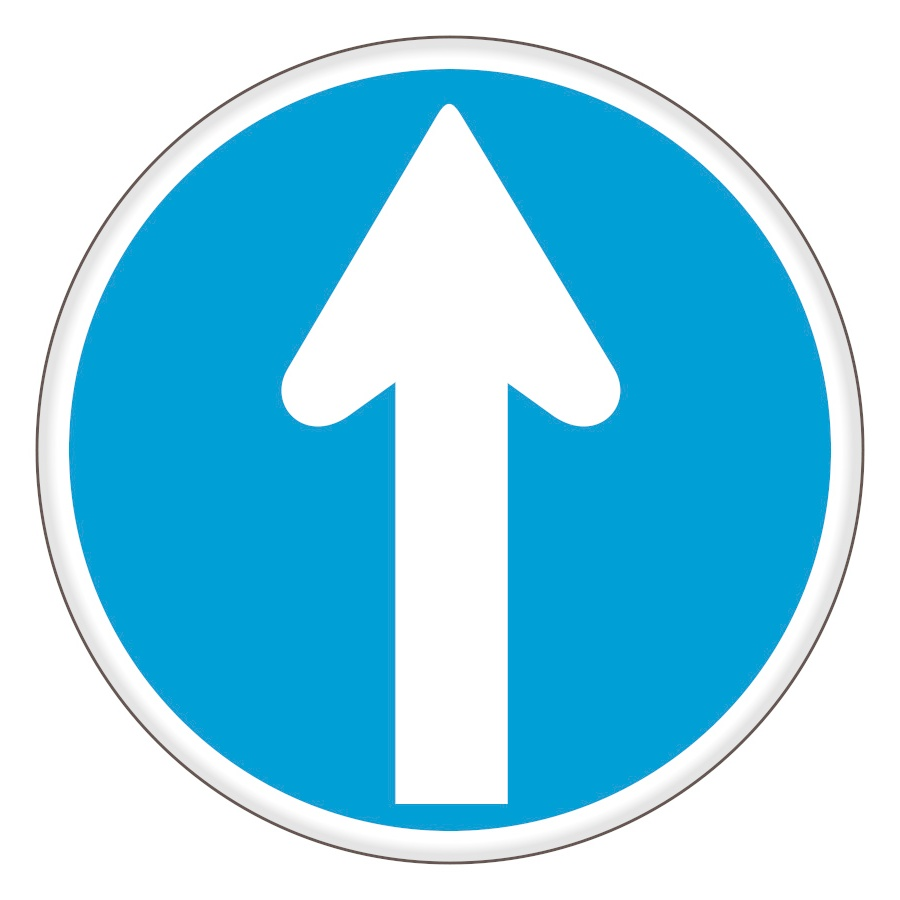Direction_sign: (40, 24, 882, 893)
